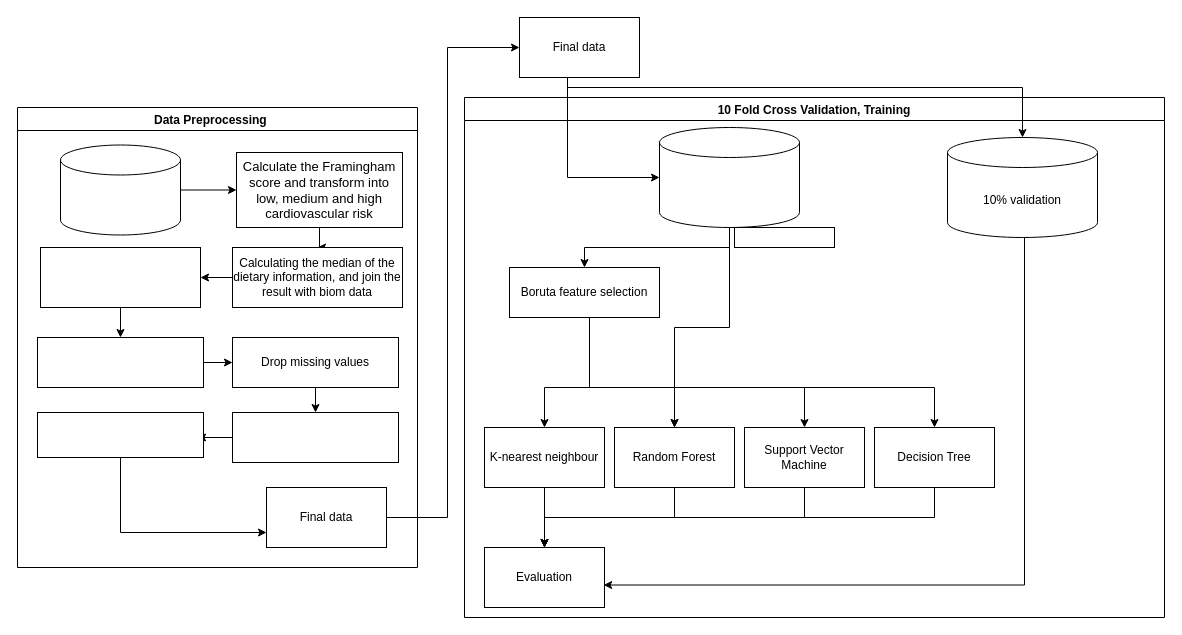
This 1182x635 diagram has some shape labels left out. The centre of each missing label's shape, as x and y in pixels:
"48 variables" belongs at point (784, 237).
"90% train" belongs at point (729, 177).
"ABS data" belongs at point (120, 189).
"Cleaning out logistically wrong values" belongs at point (120, 277).
"Log transformation, log (x+1) for numeric data" belongs at point (315, 437).
"Removing variables with very low variance, and high missingness" belongs at point (120, 362).
"Standardization" belongs at point (120, 435).
